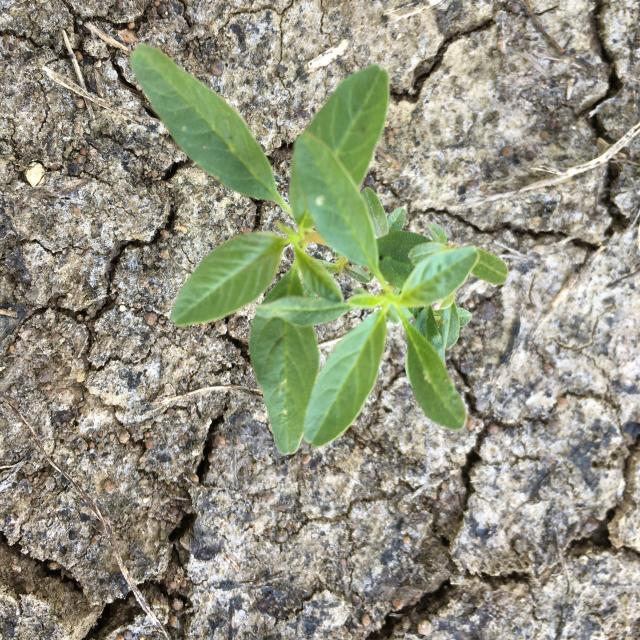Waterhemp: (130, 43, 509, 456)
